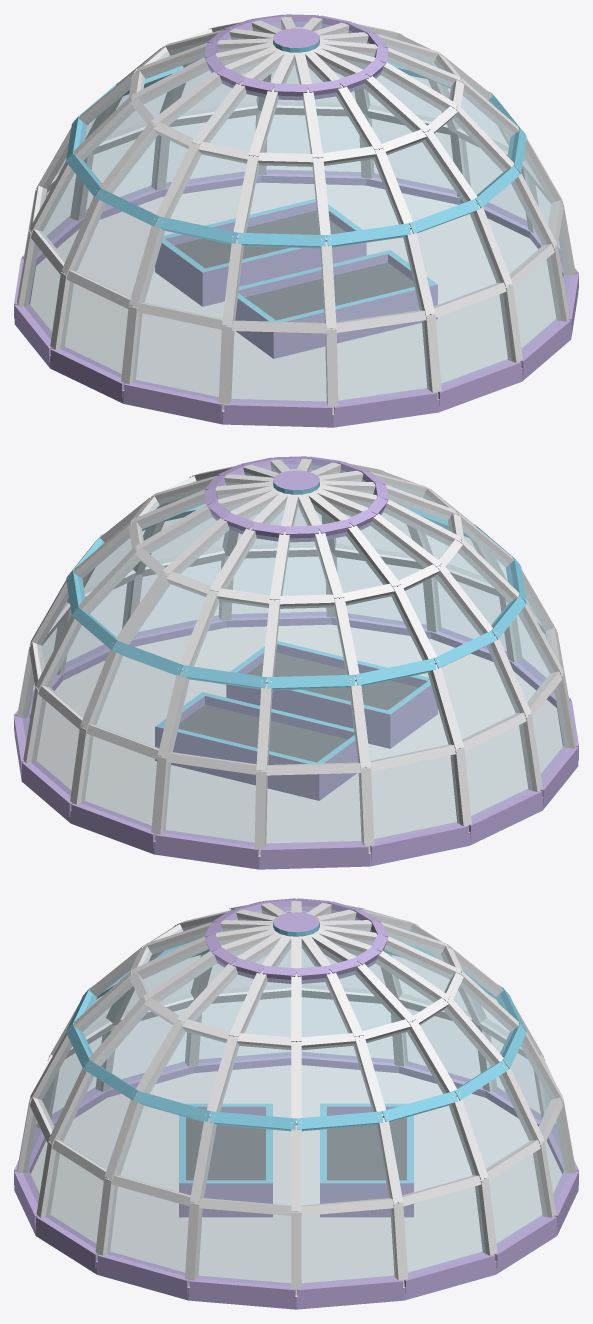
The model's file is invernadero_cupula.glb.
The picture shows the model from 3 angles, top to bottom: view 1: azimuth 30°, elevation 25°; view 2: azimuth 150°, elevation 25°; view 3: azimuth 270°, elevation 25°; orthographic projection.
Parts seen in each view (by area): view 1: Structure, Glass, Tray (×2); view 2: Structure, Glass, Tray (×2); view 3: Structure, Glass, Tray (×2).
Part boxes in pixels (<box>): Structure: <box>14,14,578,427</box>; Glass: <box>24,22,570,404</box>; Tray (×2): <box>155,199,437,358</box>; Structure: <box>14,456,578,869</box>; Glass: <box>22,464,568,846</box>; Tray (×2): <box>155,641,437,800</box>; Structure: <box>14,898,578,1309</box>; Glass: <box>23,906,569,1285</box>; Tray (×2): <box>179,1103,413,1217</box>.
Size of the model in its own units: 12.01 by 6.29 by 12.01.
Materials: 2 (1 with a texture image).
